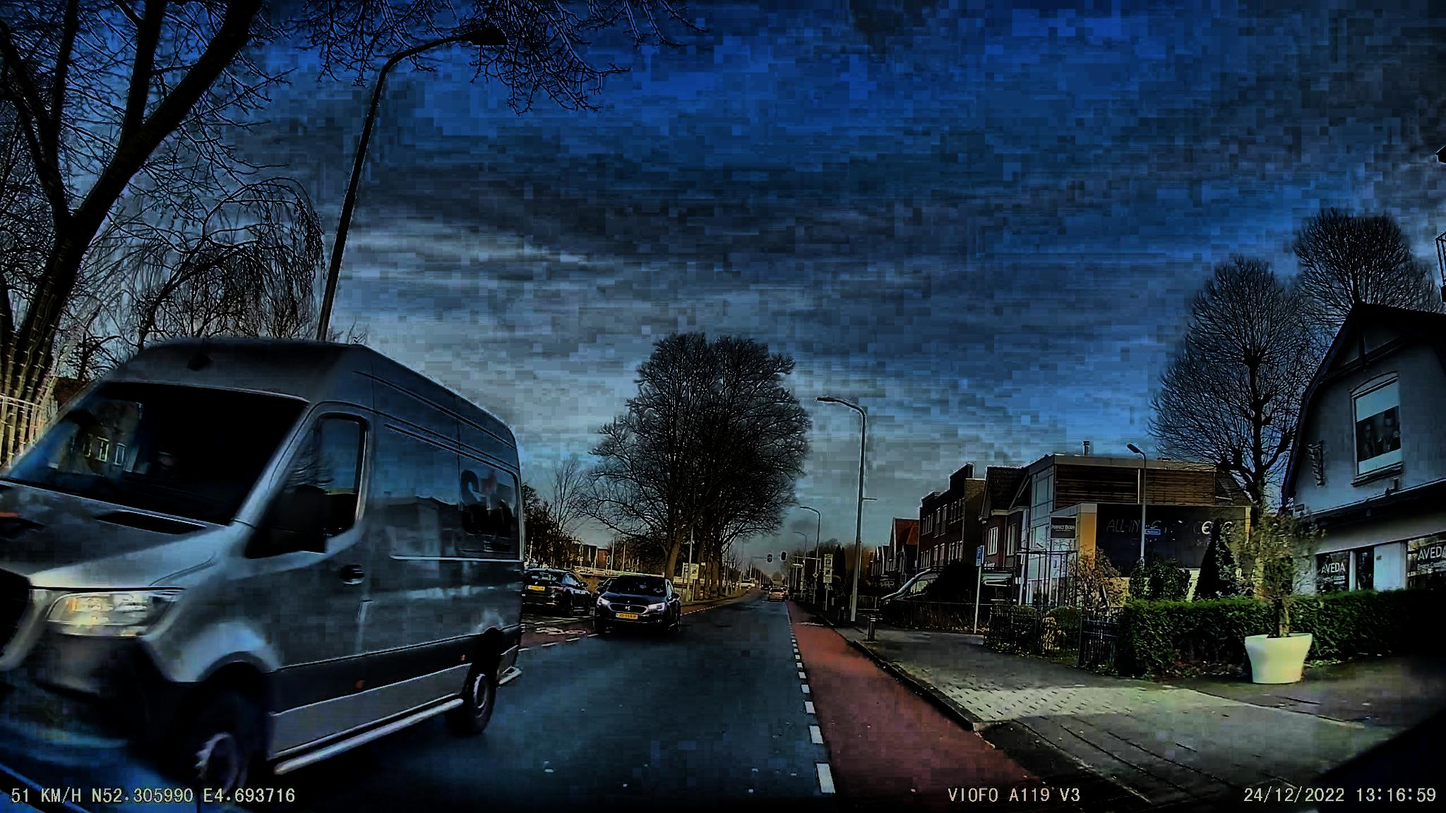Roads: (278, 602, 1024, 813)
